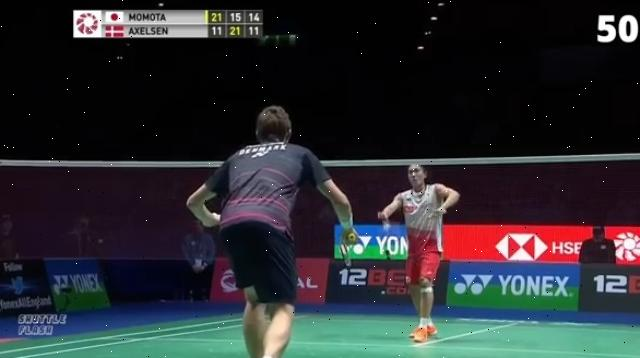Shuttlecock: (381, 220, 399, 234)
